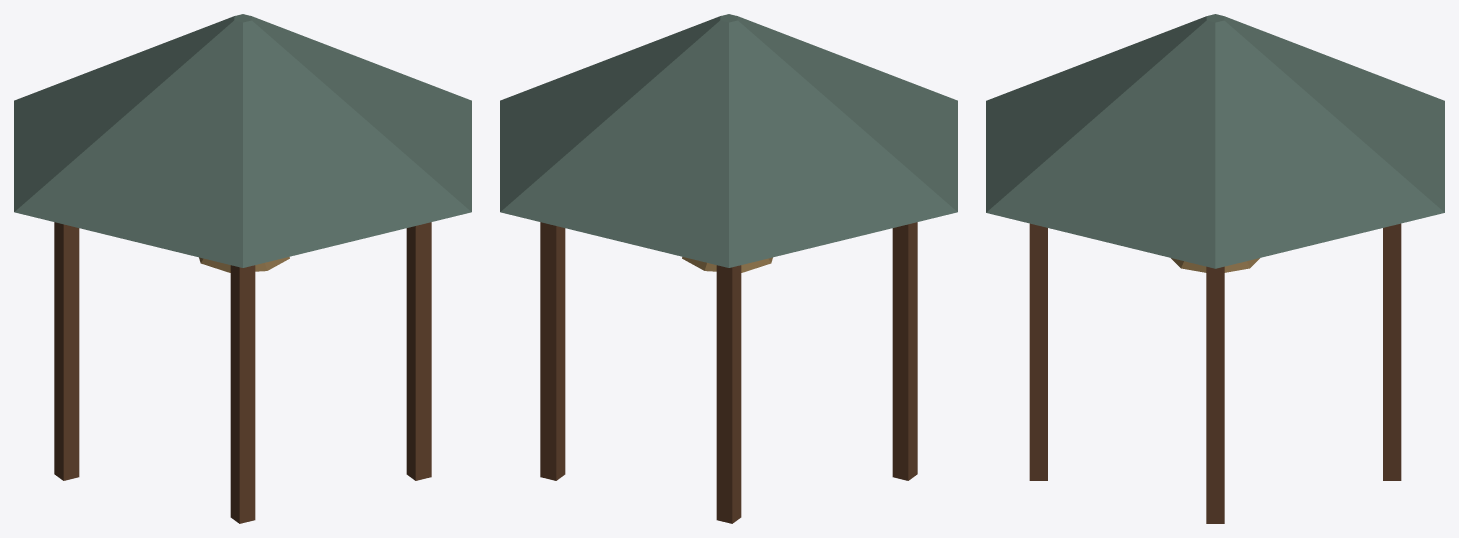
File: Building_Settlement_HexagonalBellGazebo_001_LOD1.glb
3 renders of one model, left to right at view 1: azimuth 30°, elevation 25°; view 2: azimuth 150°, elevation 25°; view 3: azimuth 270°, elevation 25°, orthographic.
Visible parts, largest first — view 1: Building_Settlement_HexagonalBellGazebo_001_LOD1; view 2: Building_Settlement_HexagonalBellGazebo_001_LOD1; view 3: Building_Settlement_HexagonalBellGazebo_001_LOD1.
Part boxes in pixels (<box>): Building_Settlement_HexagonalBellGazebo_001_LOD1: <box>14,14,471,523</box>; Building_Settlement_HexagonalBellGazebo_001_LOD1: <box>500,14,957,523</box>; Building_Settlement_HexagonalBellGazebo_001_LOD1: <box>986,14,1444,523</box>.
Size of the model in its own units: 5.2 by 4.5 by 4.5.
